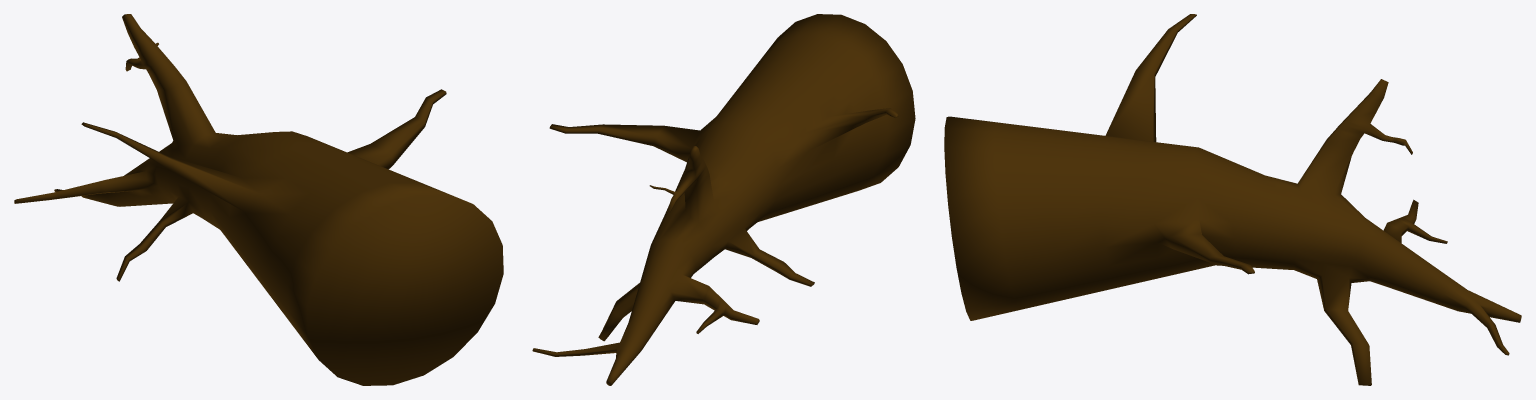
The model's file is dead_tree_01.fbx.
3 views of the same model, side by side, from view 1: azimuth 30°, elevation 25°; view 2: azimuth 150°, elevation 25°; view 3: azimuth 270°, elevation 25° (orthographic). The views are drawn at different scales.
Visible parts, largest first — view 1: Variant_2; view 2: Variant_2; view 3: Variant_2.
Part boxes in pixels (x1,y1,x2,y2): Variant_2: (14,14,503,385); Variant_2: (532,14,915,385); Variant_2: (944,14,1521,385).
Size of the model in its own units: 387 by 255 by 528.
